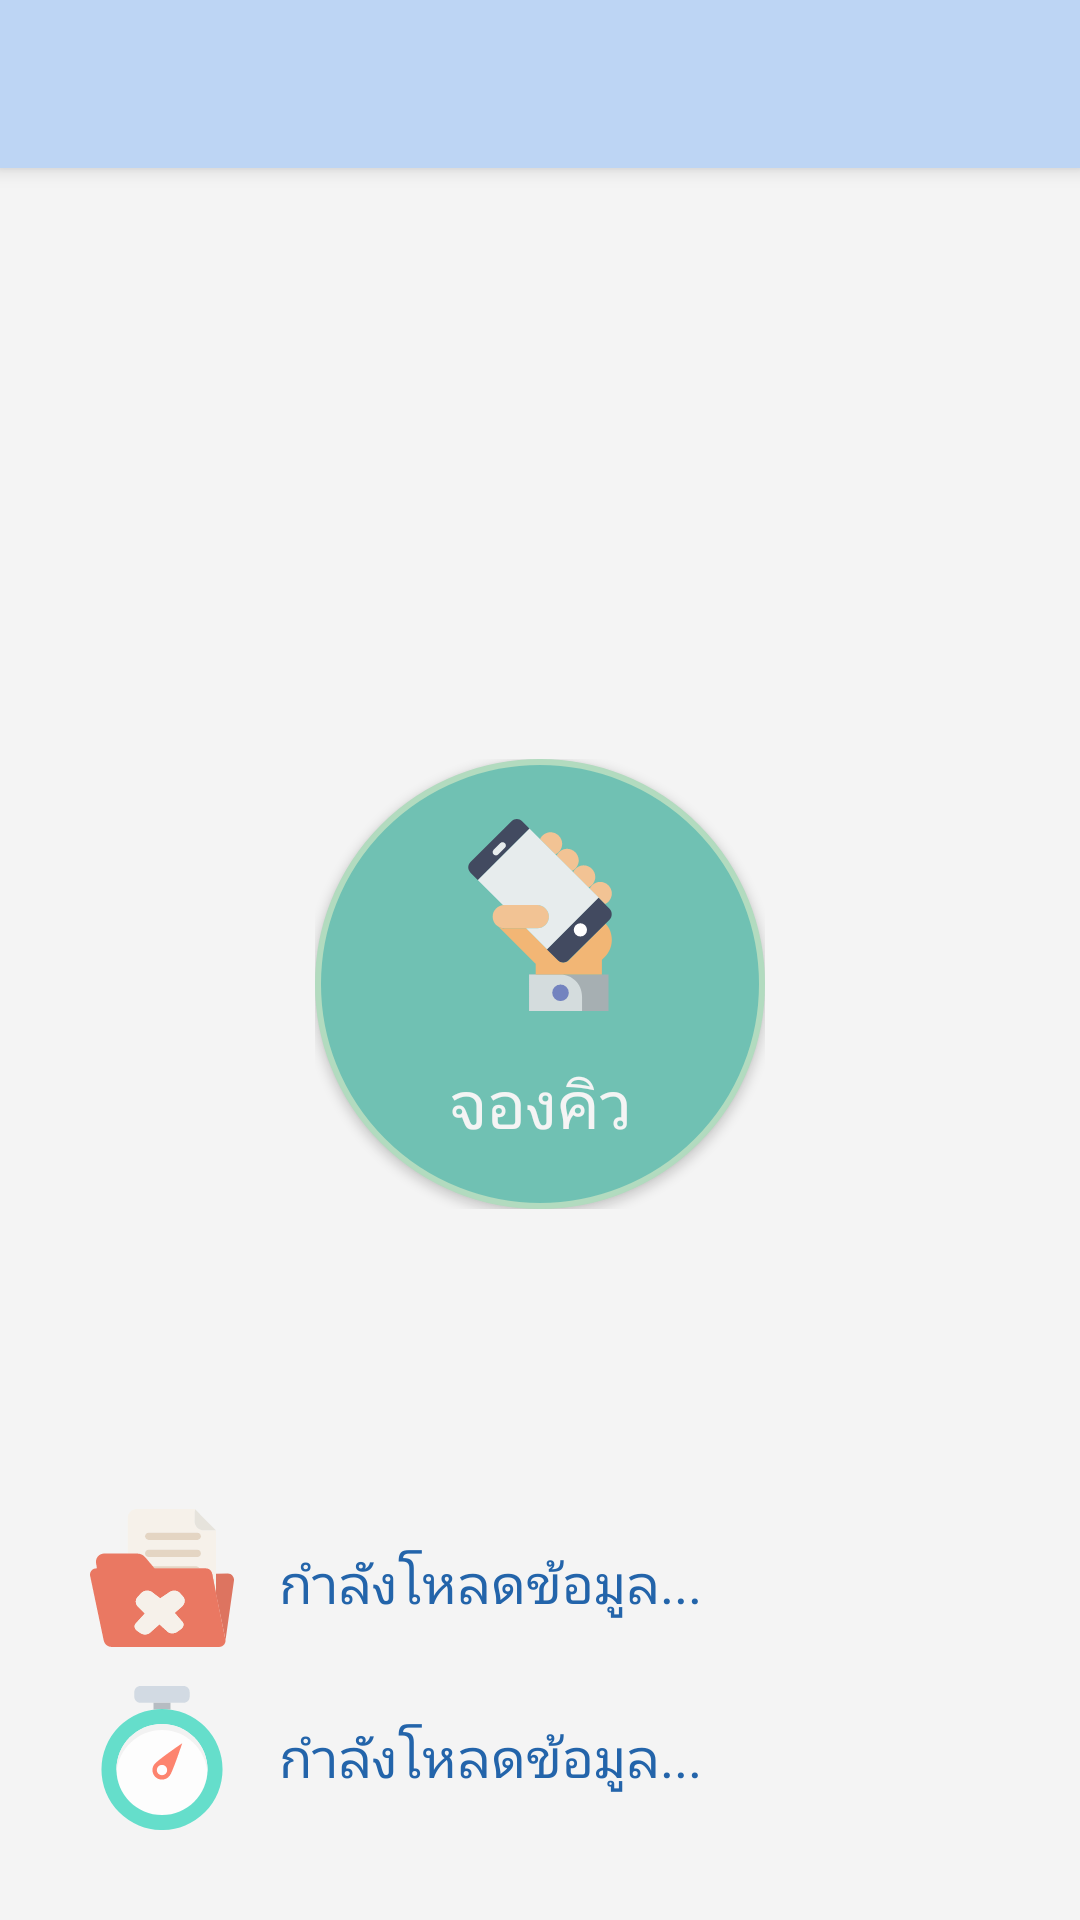

Icons on this 1080w x 1920h Android screen, each with its box as box(x1, y1, x2, y2):
folder: box(90, 1533, 234, 1647)
time: box(101, 1686, 223, 1830)
